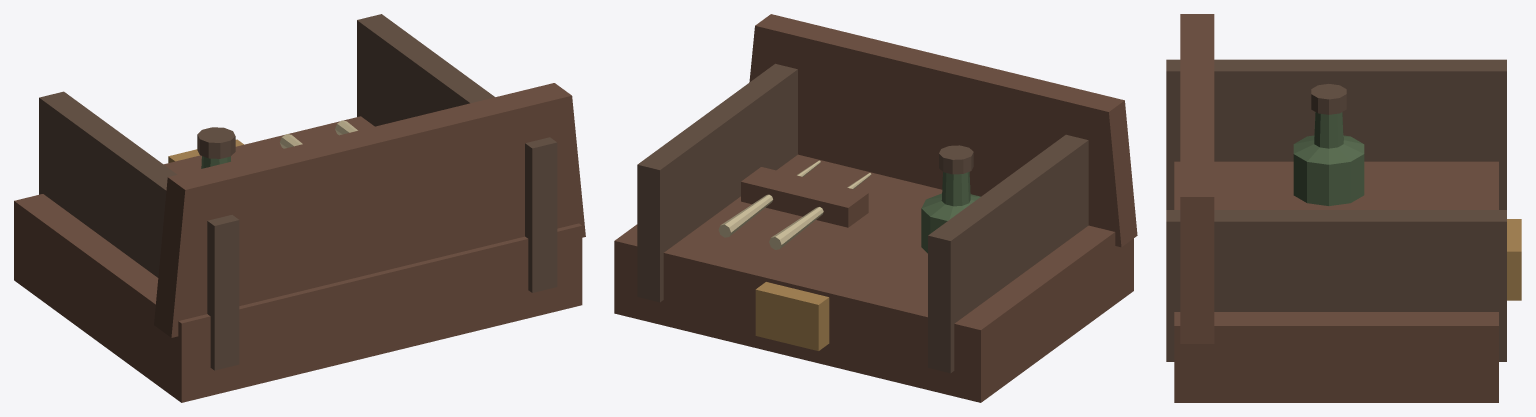
The model's file is AE_Item_SurgeonSatchel.fbx.
3 renders of one model, left to right at view 1: azimuth 30°, elevation 25°; view 2: azimuth 150°, elevation 25°; view 3: azimuth 270°, elevation 25°, orthographic. The views are drawn at different scales.
Visible parts, largest first — view 1: AE_Item_SurgeonSatchel; view 2: AE_Item_SurgeonSatchel; view 3: AE_Item_SurgeonSatchel.
Part boxes in pixels (box(x1,y1,x2,y2)): AE_Item_SurgeonSatchel: box(14, 14, 585, 402); AE_Item_SurgeonSatchel: box(614, 14, 1137, 402); AE_Item_SurgeonSatchel: box(1166, 14, 1521, 402).
Bounding box in the file's own units: 0.3 × 0.1445 × 0.2295.
